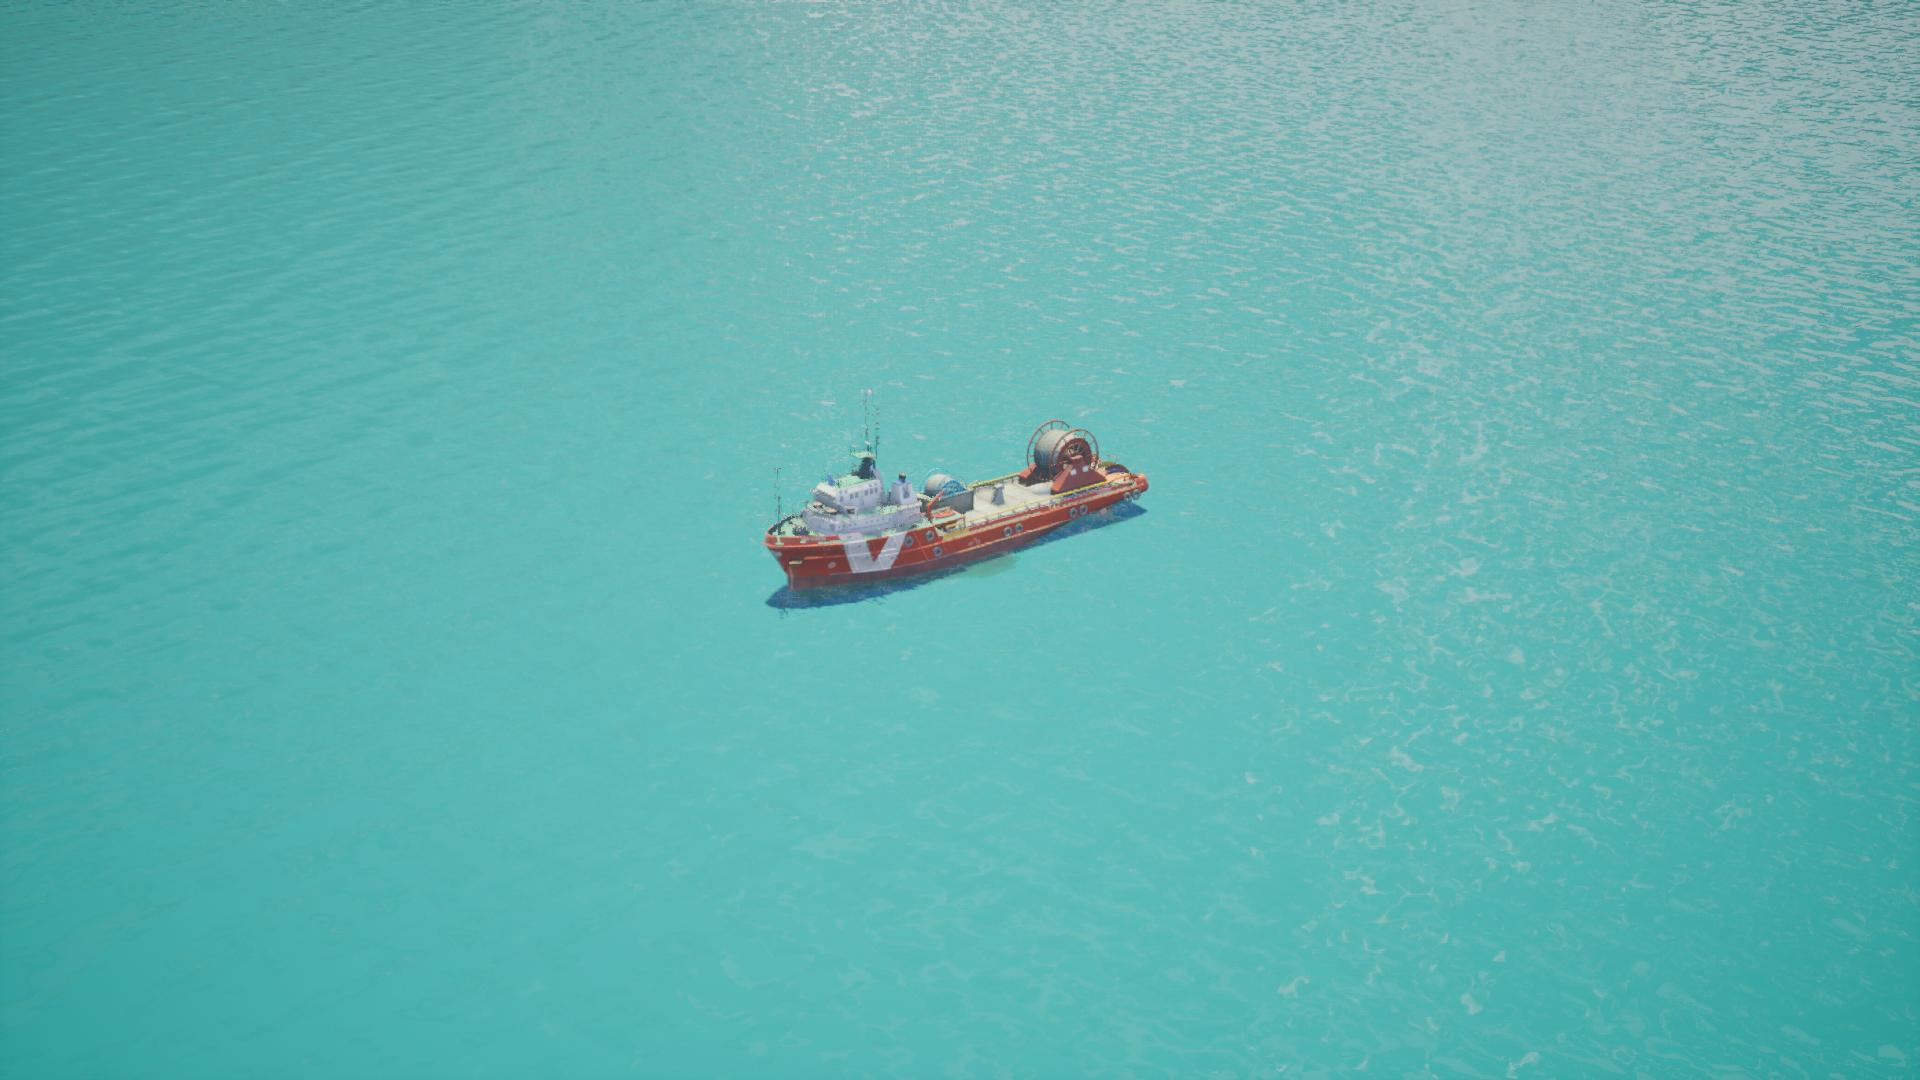Tug Boat: (764, 418, 1153, 613)
